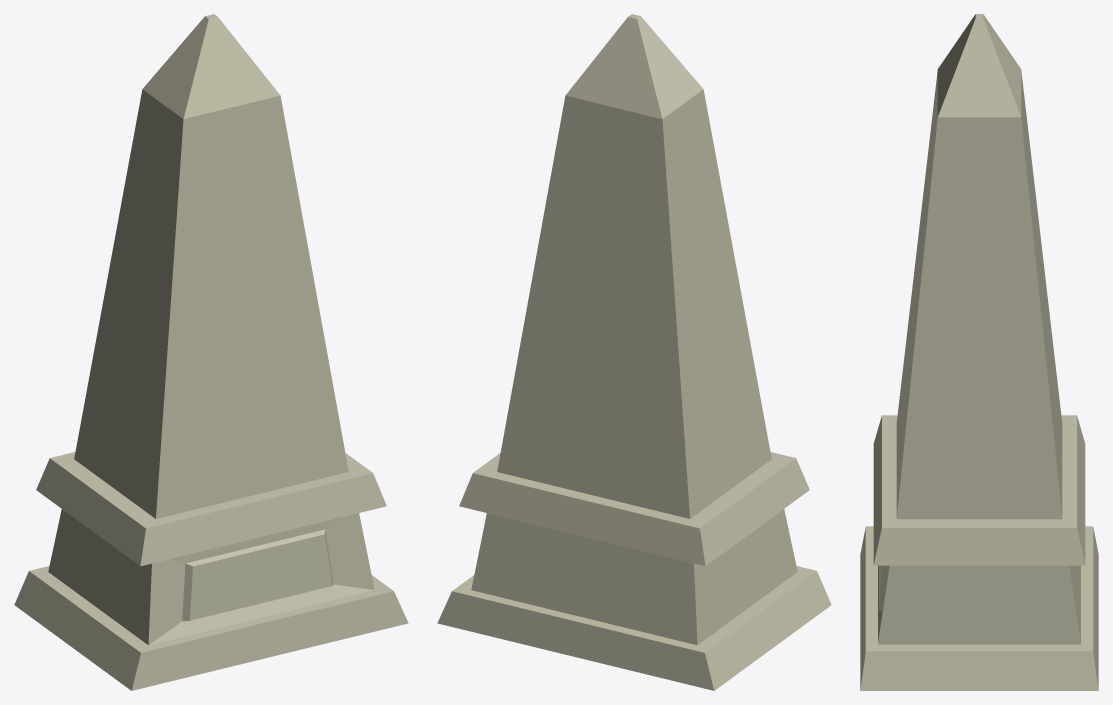
File: Lapida5.fbx
The picture shows the model from 3 angles, left to right: view 1: azimuth 30°, elevation 25°; view 2: azimuth 150°, elevation 25°; view 3: azimuth 270°, elevation 25°; orthographic projection.
Parts seen in each view (by area): view 1: Lapida5; view 2: Lapida5; view 3: Lapida5.
Part boxes in pixels (x1,y1,x2,y2): Lapida5: (14, 14, 408, 690); Lapida5: (437, 14, 831, 690); Lapida5: (860, 14, 1098, 690).
Size of the model in its own units: 72.07 by 149 by 52.88.
